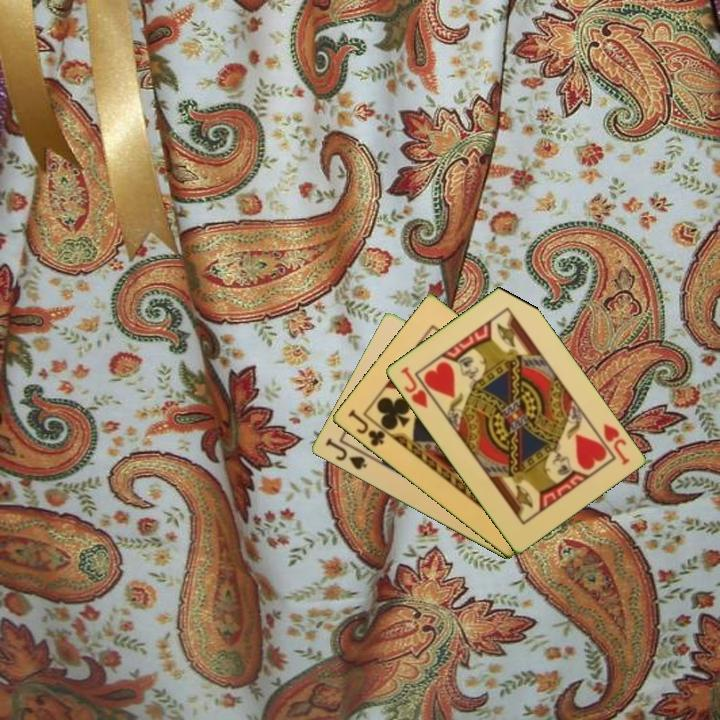Jc: (344, 406, 388, 450)
Jh: (396, 363, 439, 411), (599, 420, 632, 468)
Js: (321, 434, 370, 473)
